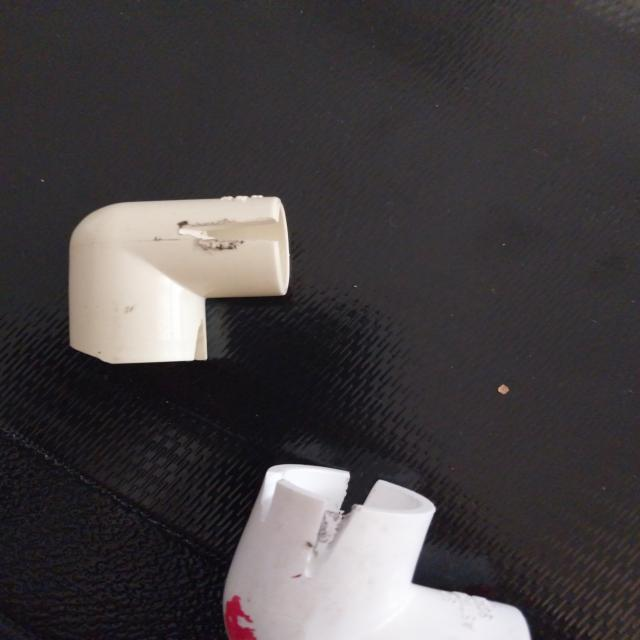Defective: (314, 466, 398, 556), (172, 218, 274, 248), (223, 596, 284, 638), (182, 297, 212, 359)
L Joint: (68, 194, 292, 363)
